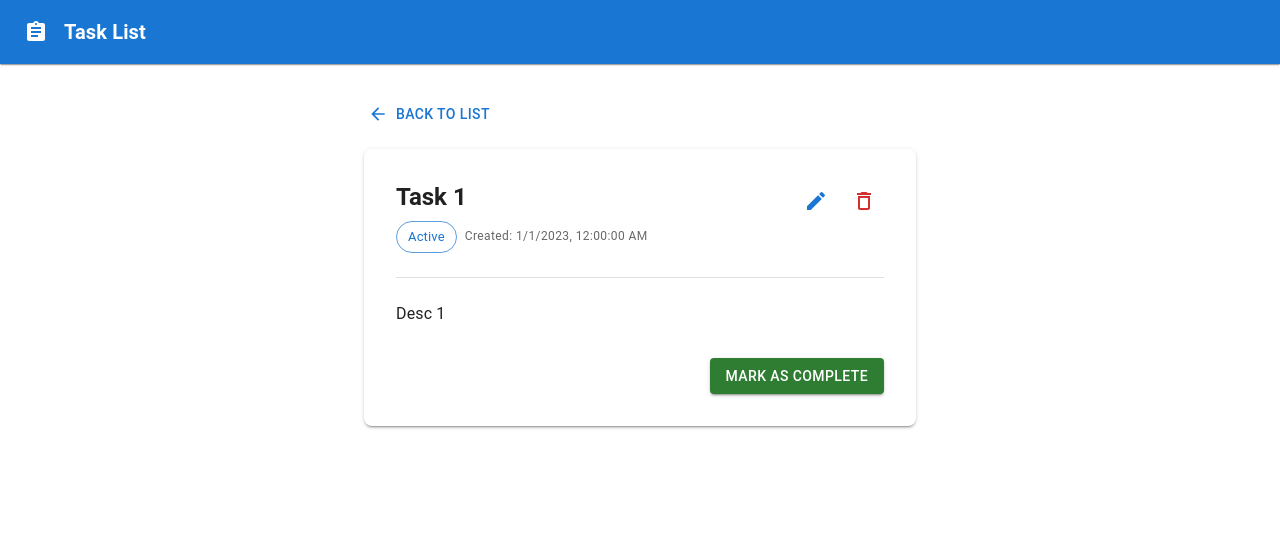
TaskDetails Component › toggles edit mode
Expected: the heading "Task 1" is shown, x1=396 y1=182 x2=467 y2=210
Click the button named "edit task": (816, 200) x1=796 y1=180 x2=836 y2=220
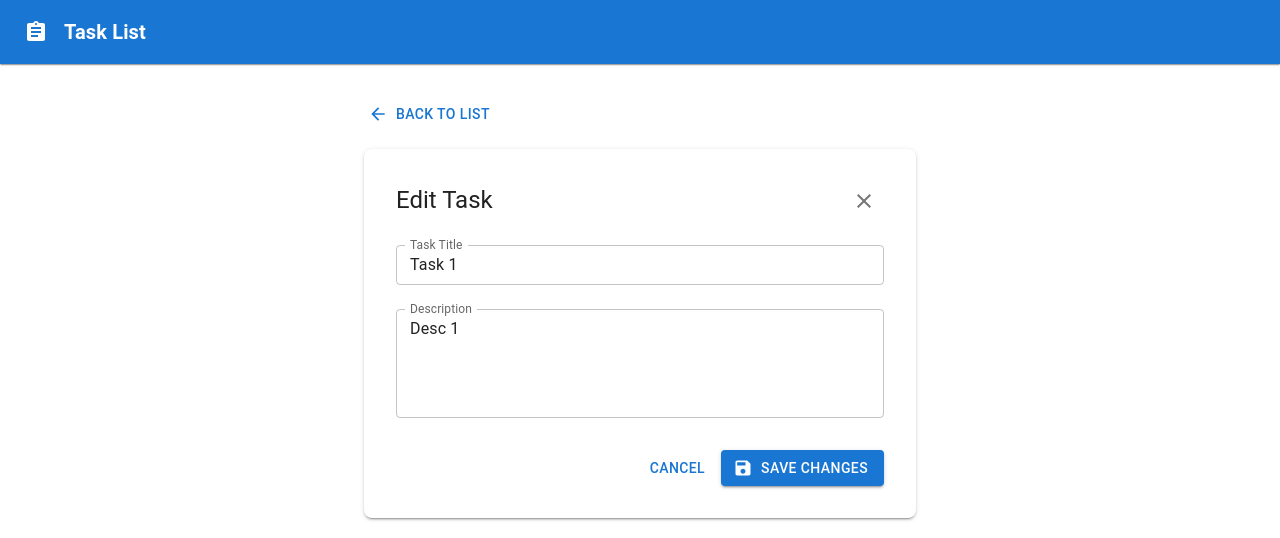
Expected: the heading "Edit Task" is shown, x1=396 y1=184 x2=493 y2=216
Expected: the field labelled "Task Title" holds "Task 1", x1=396 y1=244 x2=884 y2=284
Expected: the text box labelled "Description" holds "Desc 1", x1=410 y1=317 x2=870 y2=409
Click the button "Cancel": (677, 468) x1=642 y1=450 x2=713 y2=486
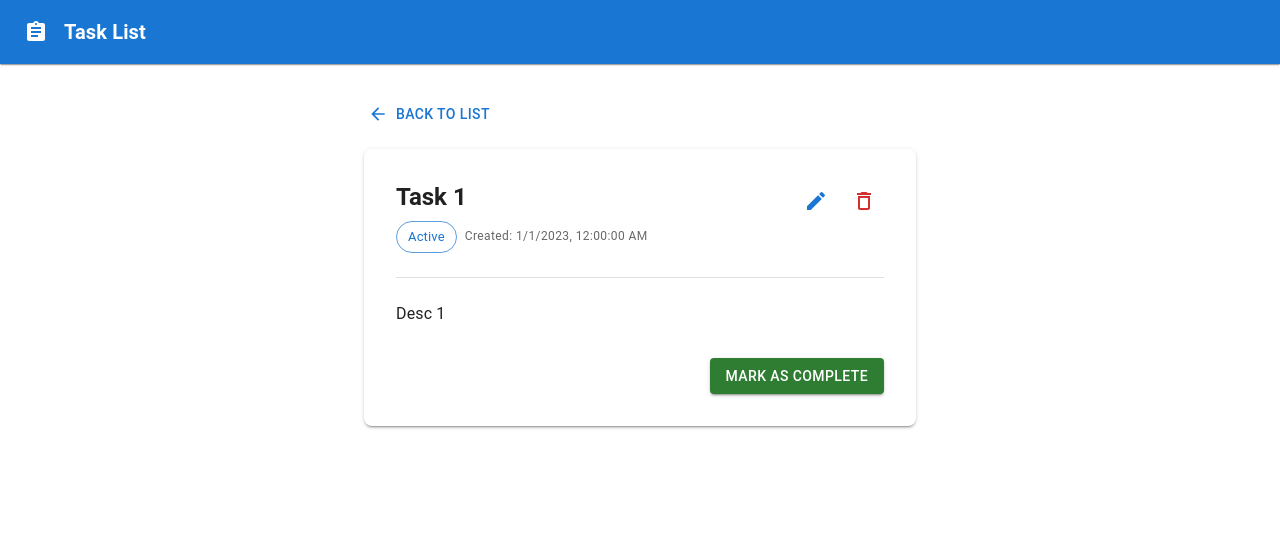
Expected: the heading "Edit Task" is gone
